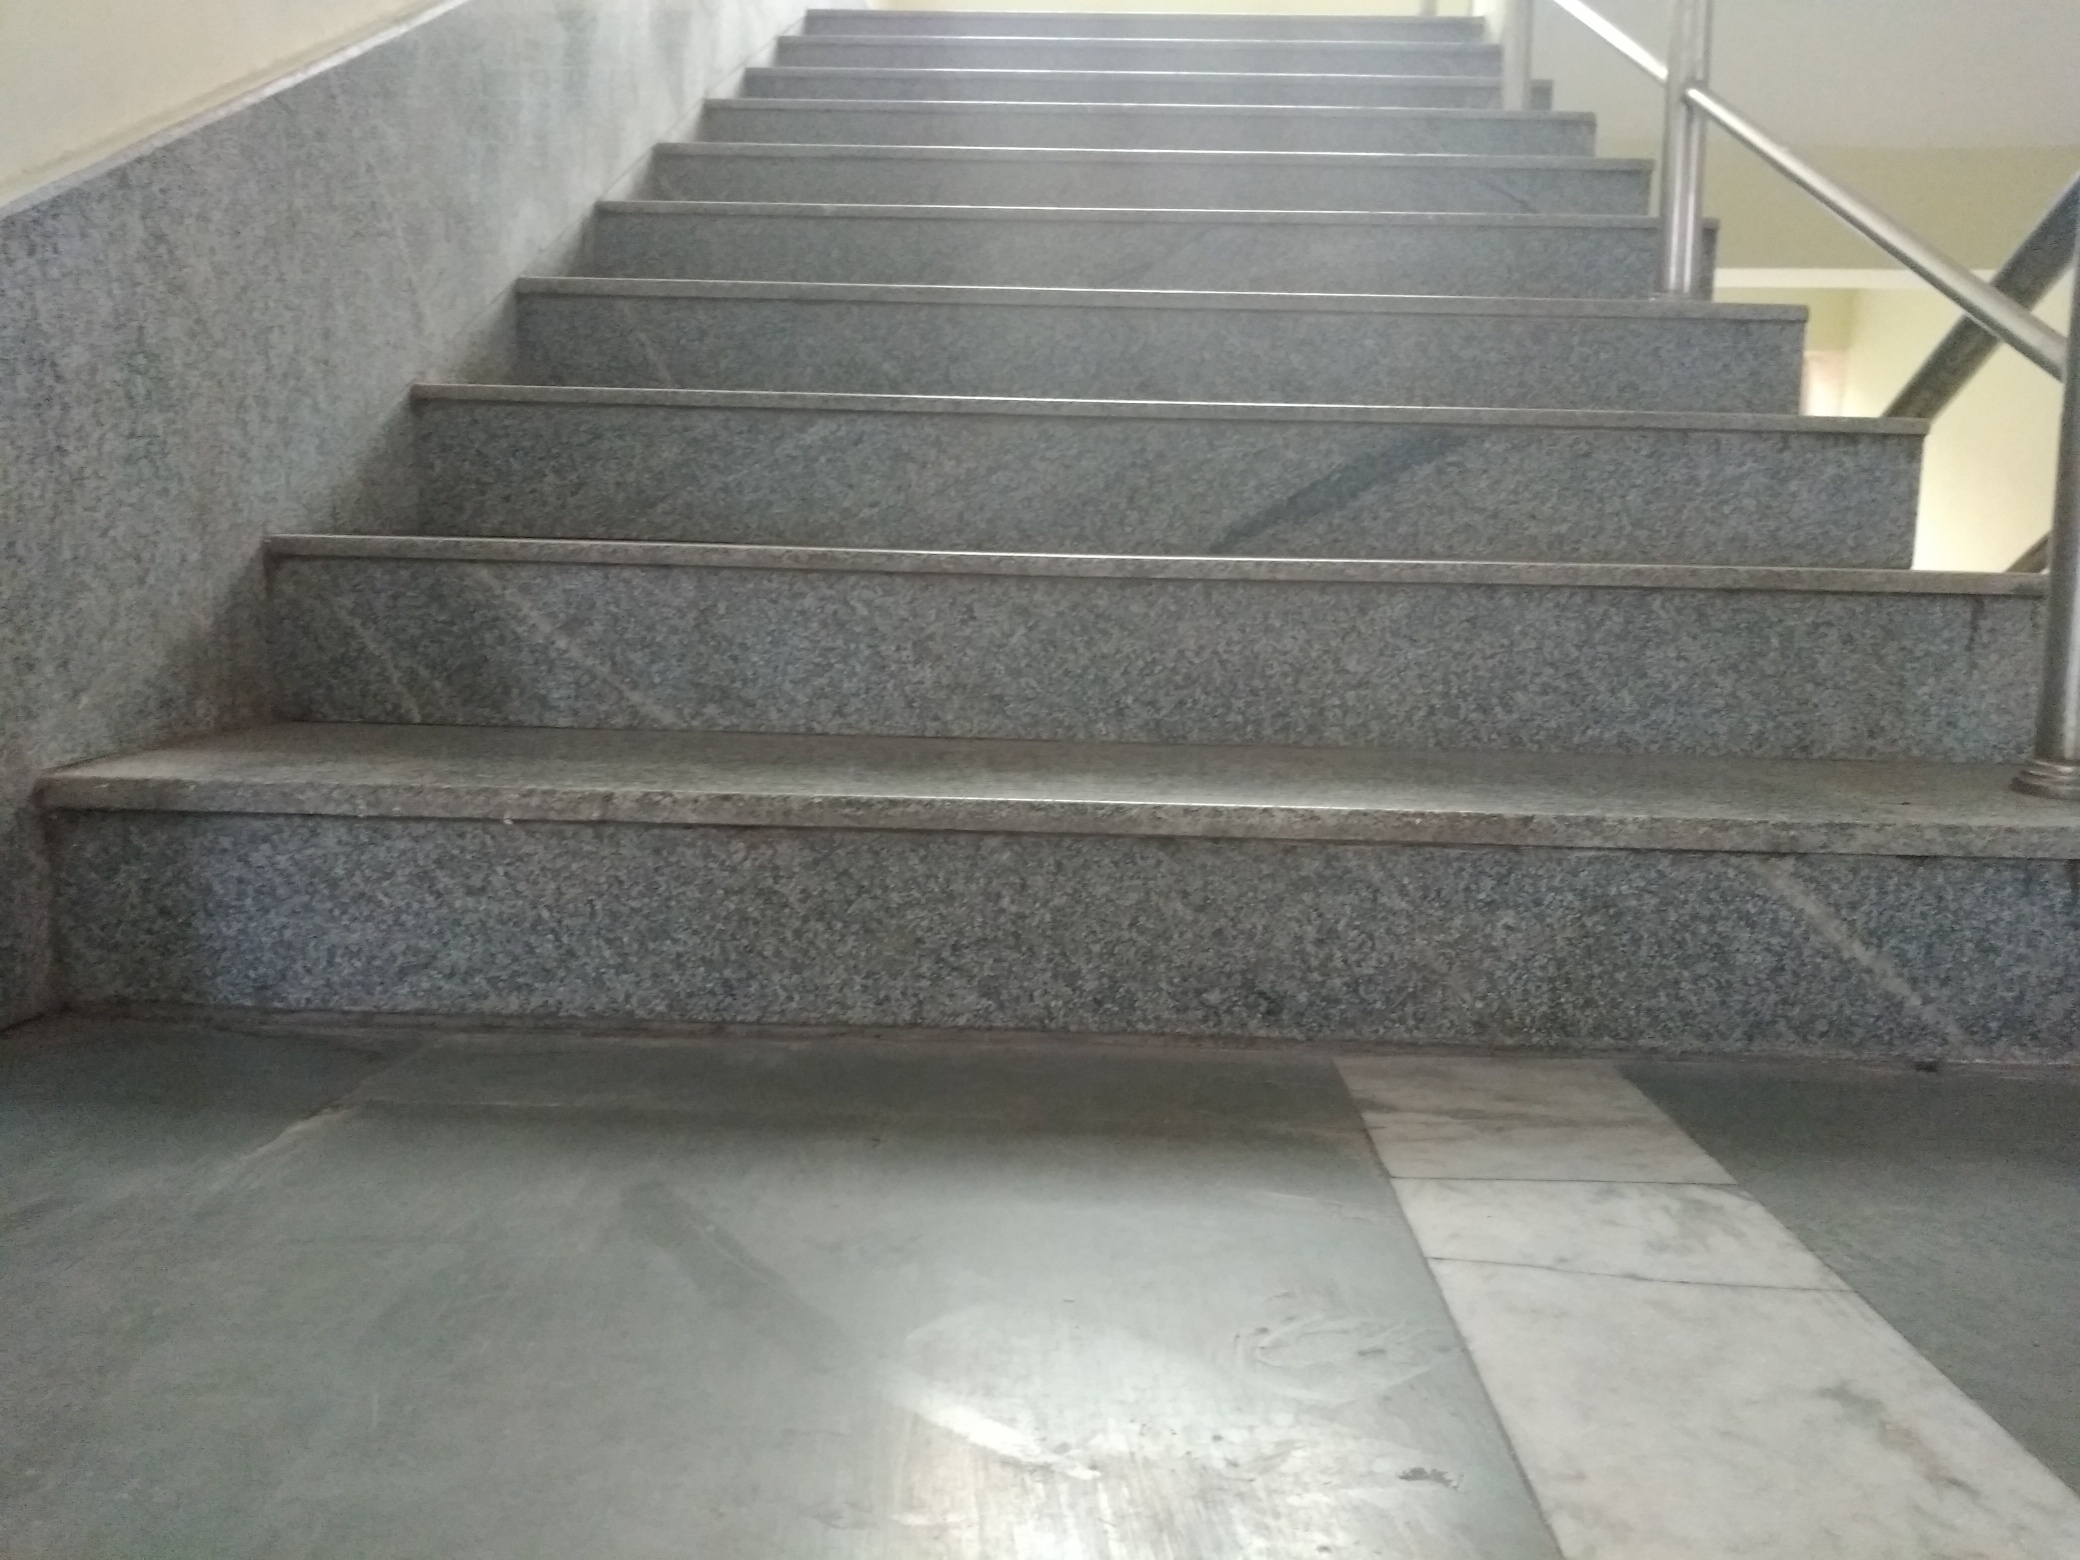stairs_up: (74, 8, 2080, 1016)
